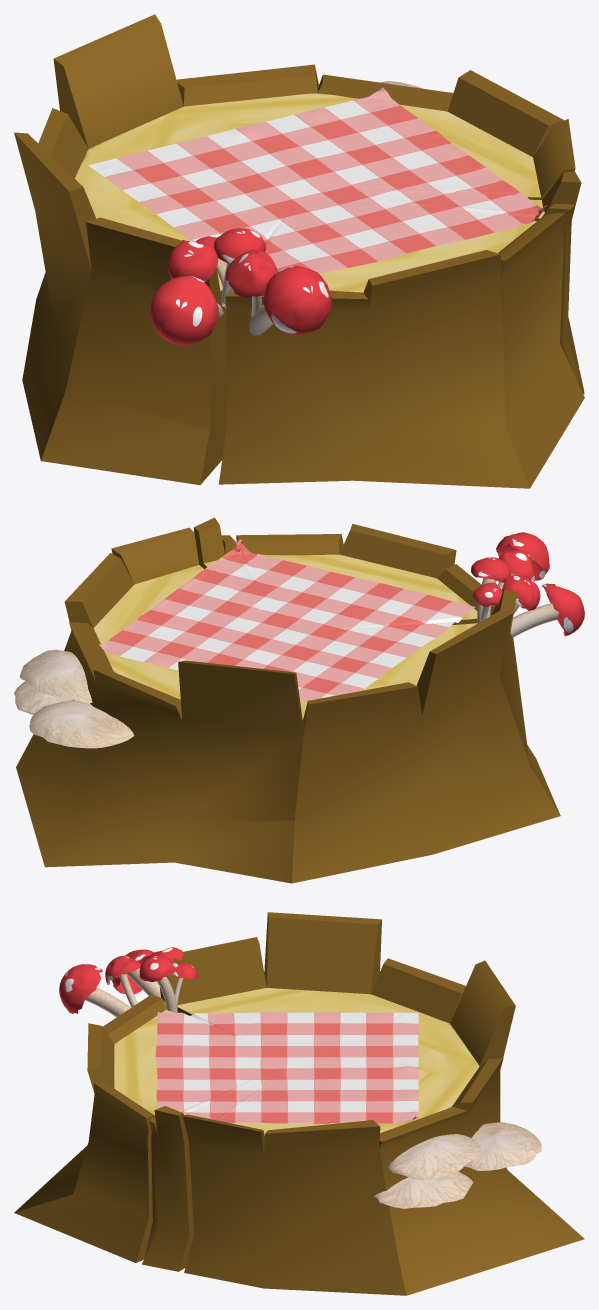
Rendered from penek.fbx.
3 views of the same model, one above another, from view 1: azimuth 30°, elevation 25°; view 2: azimuth 150°, elevation 25°; view 3: azimuth 270°, elevation 25° (orthographic). The views are drawn at different scales.
Visible parts, largest first — view 1: Penek, Plane, Grib2, Grib3, Grib1; view 2: Penek, Plane, PloskiGrib.002, PloskiGrib, Grib3, Grib2, Grib1, PloskiGrib.001, NurbsCurve.005; view 3: Penek, Plane, PloskiGrib, PloskiGrib.002, PloskiGrib.001, Grib2, Grib1, Grib3, NurbsCurve.002.
Part boxes in pixels (x1=…): Penek: x1=14, y1=14, x2=584, y2=488; Plane: x1=88, y1=87, x2=546, y2=273; Grib2: x1=226, y1=249, x2=332, y2=335; Grib3: x1=150, y1=240, x2=218, y2=345; Grib1: x1=196, y1=228, x2=265, y2=264; Penek: x1=16, y1=517, x2=560, y2=883; Plane: x1=98, y1=539, x2=475, y2=702; PloskiGrib.002: x1=29, y1=700, x2=134, y2=748; PloskiGrib: x1=19, y1=649, x2=92, y2=703; Grib3: x1=502, y1=575, x2=584, y2=636; Grib2: x1=496, y1=532, x2=549, y2=581; Grib1: x1=471, y1=557, x2=512, y2=606; PloskiGrib.001: x1=14, y1=681, x2=72, y2=714; NurbsCurve.005: x1=510, y1=603, x2=558, y2=637; Penek: x1=14, y1=912, x2=584, y2=1295; Plane: x1=155, y1=1012, x2=418, y2=1123; PloskiGrib: x1=388, y1=1134, x2=481, y2=1180; PloskiGrib.002: x1=464, y1=1122, x2=541, y2=1170; PloskiGrib.001: x1=374, y1=1171, x2=473, y2=1208; Grib2: x1=59, y1=956, x2=141, y2=1013; Grib1: x1=139, y1=955, x2=198, y2=981; Grib3: x1=112, y1=947, x2=183, y2=994; NurbsCurve.002: x1=85, y1=987, x2=130, y2=1017.
Bounding box in the file's own units: 2463 × 1045 × 2835.
